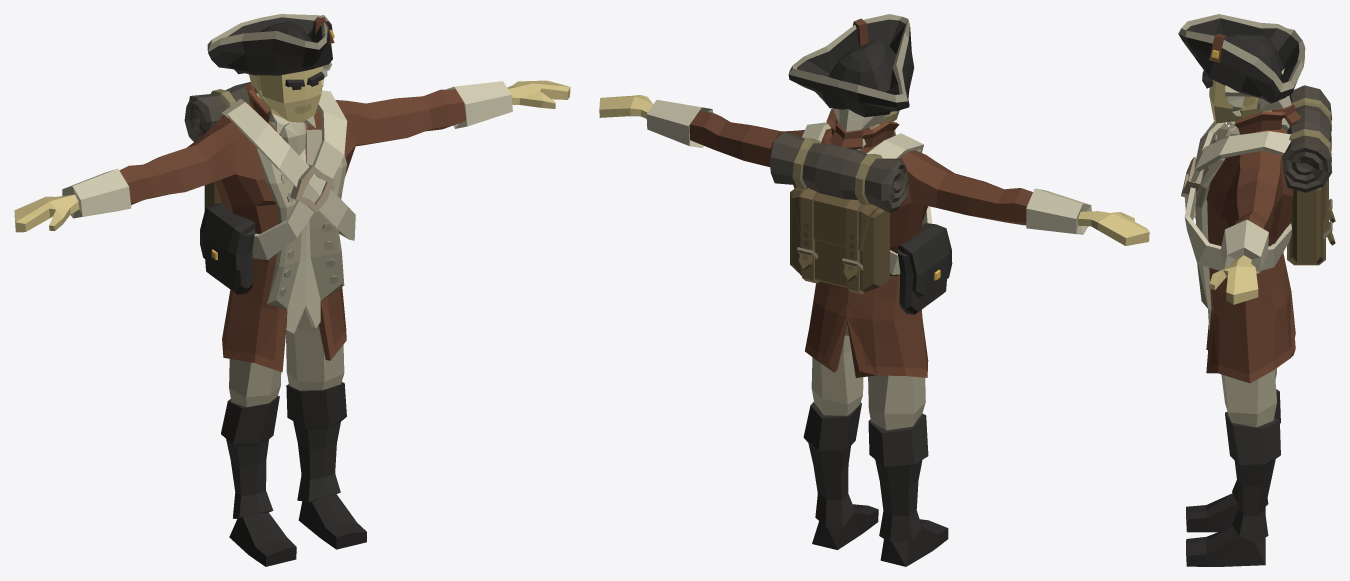
Rendered from Soldier_1.fbx.
The picture shows the model from 3 angles, left to right: view 1: azimuth 30°, elevation 25°; view 2: azimuth 150°, elevation 25°; view 3: azimuth 270°, elevation 25°; orthographic projection.
Parts seen in each view (by area): view 1: Soldier, Bag_4, Roll; view 2: Soldier, Bag_5, Roll, Bag_4; view 3: Soldier, Roll, Bag_5.
Part boxes in pixels (x1=…): Soldier: x1=14, y1=14, x2=570, y2=566; Bag_4: x1=200, y1=203, x2=255, y2=294; Roll: x1=184, y1=82, x2=321, y2=141; Soldier: x1=599, y1=14, x2=1149, y2=566; Bag_5: x1=790, y1=187, x2=889, y2=294; Roll: x1=770, y1=132, x2=908, y2=212; Bag_4: x1=897, y1=223, x2=952, y2=314; Soldier: x1=1178, y1=14, x2=1305, y2=566; Roll: x1=1282, y1=85, x2=1332, y2=192; Bag_5: x1=1287, y1=178, x2=1335, y2=265.
Bounding box in the file's own units: 205 × 183 × 50.34.
